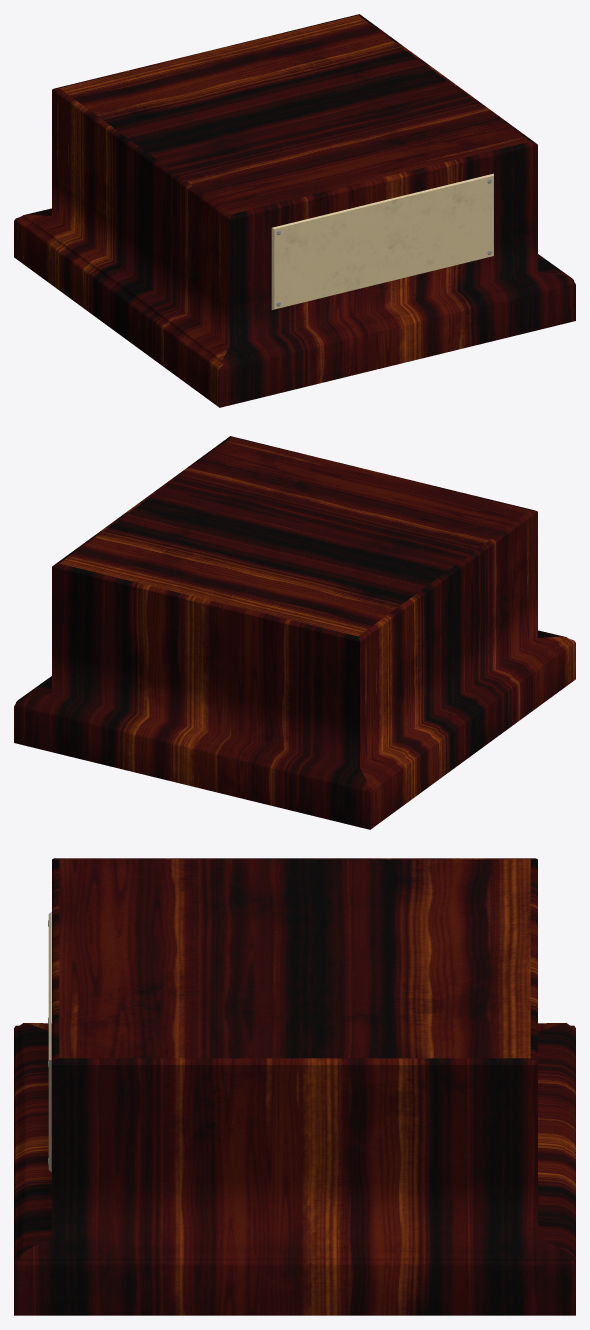
File: TrophyBase.fbx
3 views of the same model, one above another, from view 1: azimuth 30°, elevation 25°; view 2: azimuth 150°, elevation 25°; view 3: azimuth 270°, elevation 25° (orthographic). The views are drawn at different scales.
Visible parts, largest first — view 1: base_madeira_low, placa_low; view 2: base_madeira_low; view 3: base_madeira_low, placa_low.
Part boxes in pixels (bbox=[...]): base_madeira_low: bbox=[14, 14, 575, 407]; placa_low: bbox=[271, 173, 493, 309]; base_madeira_low: bbox=[14, 436, 575, 829]; base_madeira_low: bbox=[14, 858, 575, 1315]; placa_low: bbox=[48, 912, 51, 1171].
Bounding box in the file's own units: 61.05 × 28.54 × 61.05.
